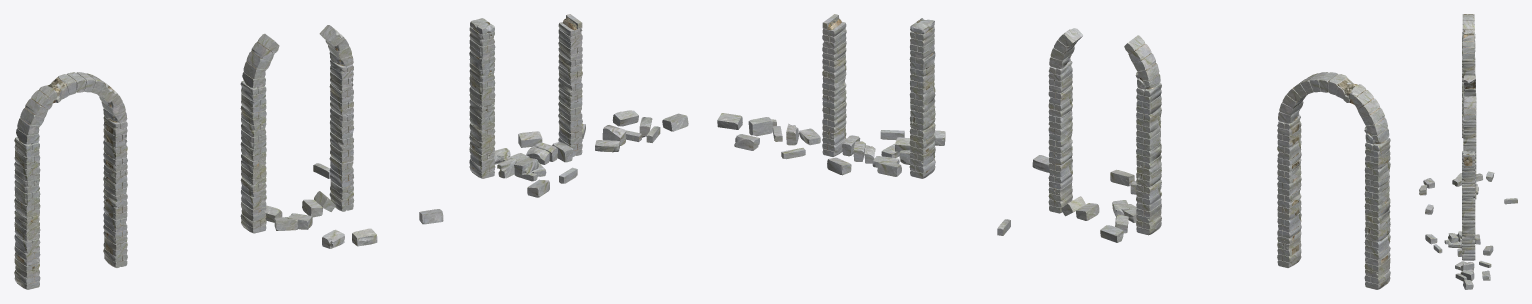
The model's file is stone-arch-ruins.glb.
3 views of the same model, side by side, from view 1: azimuth 30°, elevation 25°; view 2: azimuth 150°, elevation 25°; view 3: azimuth 270°, elevation 25° (orthographic). The views are drawn at different scales.
Parts seen in each view (by area): view 1: Object_6, Object_5; view 2: Object_6, Object_5; view 3: Object_6, Object_5.
Boxes of the visible parts, box(x1,y1,x2,y2) form: Object_6: box(14, 14, 688, 289); Object_5: box(17, 18, 578, 283); Object_6: box(717, 14, 1390, 289); Object_5: box(826, 18, 1388, 285); Object_6: box(1419, 14, 1517, 289); Object_5: box(1463, 14, 1475, 234).
Size of the model in its own units: 17.55 by 4.95 by 4.1.
Materials: 2 (2 with a texture image).
